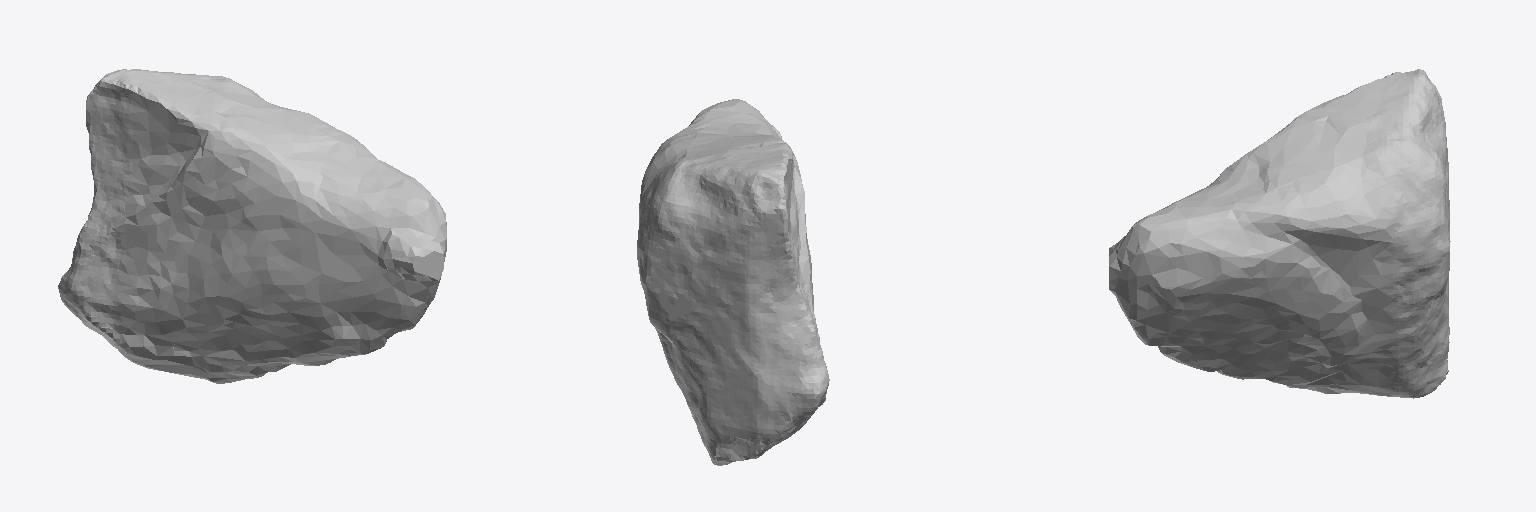
Rendered from FinalOrientedMesh_Spec1.obj.
3 renders of one model, left to right at view 1: azimuth 30°, elevation 25°; view 2: azimuth 150°, elevation 25°; view 3: azimuth 270°, elevation 25°, orthographic.
Size of the model in its own units: 0.6698 by 0.7679 by 0.7902.